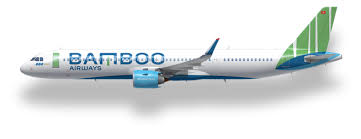maybay_dansu: (20, 14, 335, 82)
